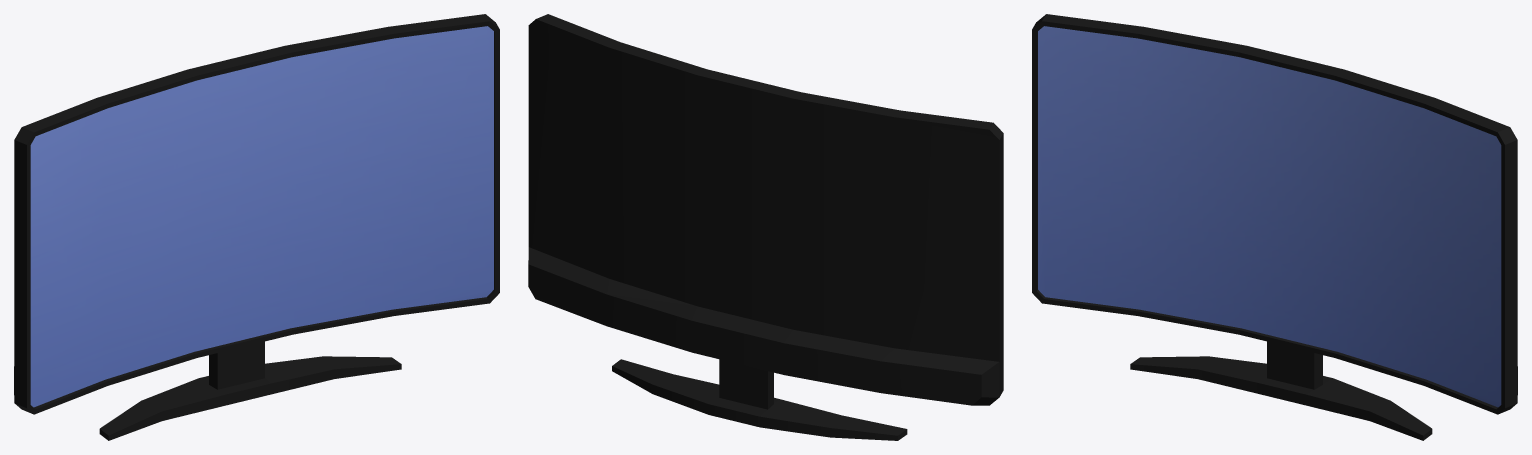
Rendered from monitor1.fbx.
3 views of the same model, side by side, from view 1: azimuth 30°, elevation 25°; view 2: azimuth 150°, elevation 25°; view 3: azimuth 330°, elevation 25° (orthographic). The views are drawn at different scales.
Visible parts, largest first — view 1: monitor1; view 2: monitor1; view 3: monitor1.
Part boxes in pixels (bbox=[...]): monitor1: bbox=[14, 14, 499, 440]; monitor1: bbox=[528, 14, 1003, 440]; monitor1: bbox=[1032, 14, 1517, 440].
Bounding box in the file's own units: 58.99 × 39.04 × 8.23.
